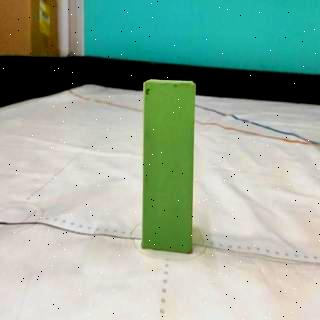greenbox: (143, 78, 195, 256)
